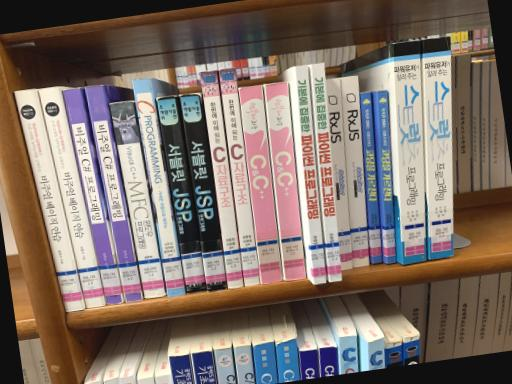book-spine: (15, 89, 84, 311), (39, 86, 105, 307), (63, 88, 123, 304), (86, 84, 143, 301), (133, 77, 186, 297), (110, 100, 166, 298), (156, 95, 206, 293), (180, 92, 227, 291), (201, 70, 243, 287), (219, 67, 260, 286), (239, 84, 282, 283), (264, 81, 306, 280), (392, 40, 426, 264), (310, 62, 342, 281), (294, 65, 326, 283), (423, 36, 454, 259), (341, 75, 370, 268), (326, 78, 353, 269), (361, 91, 383, 263), (377, 90, 396, 263)
